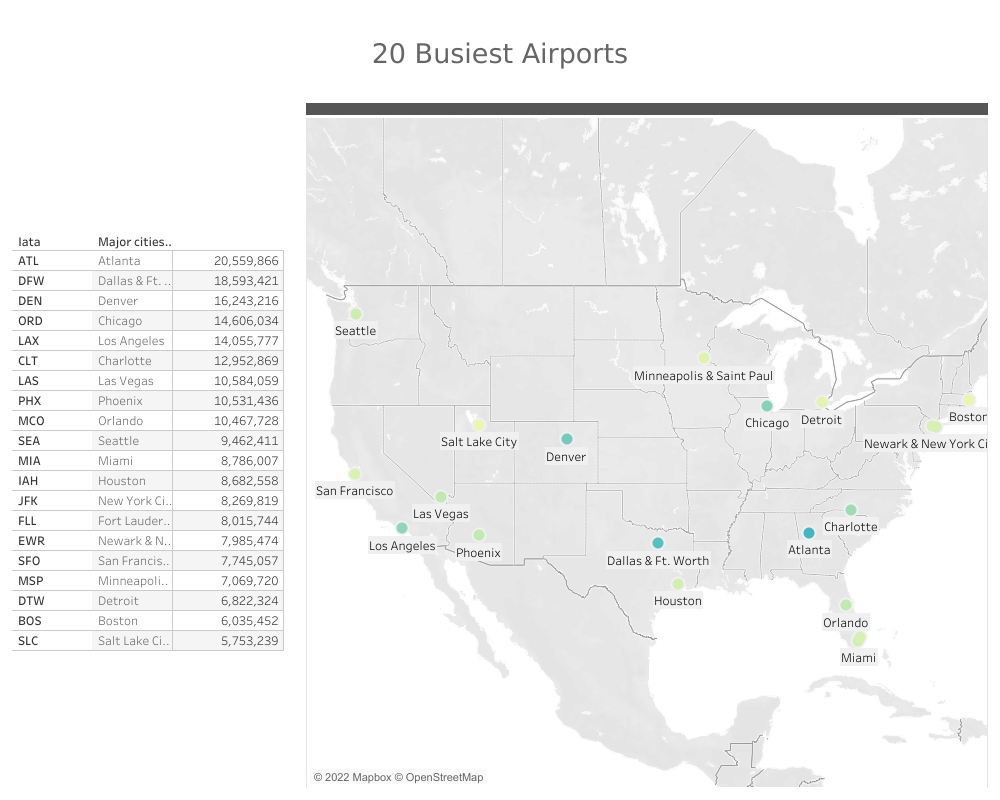

What the dashboard file says about the page in this screenshot:
{"tool":"tableau","page":{"name":"Light Dashboard","canvas":[1000,800],"ordinal":1},"visuals":[{"type":"text","box":[8,8,984,91]},{"type":"blank","box":[8,99,294,112]},{"type":"worksheet","title":"Light Map ","mark":"Automatic","box":[302,99,690,693]},{"type":"worksheet","title":"Dark List","mark":"Automatic","rows":["IATA","Major cities served"],"box":[8,211,294,581]}]}

Visuals, with their boxes in screenshot pixels (x1, y1, x2, y2), scaled from the page's 1000x800 canvas onto the 1000x800 screenshot:
text: <region>8, 8, 992, 99</region>
blank: <region>8, 99, 302, 211</region>
"Light Map " worksheet: <region>302, 99, 992, 792</region>
"Dark List" worksheet: <region>8, 211, 302, 792</region>
